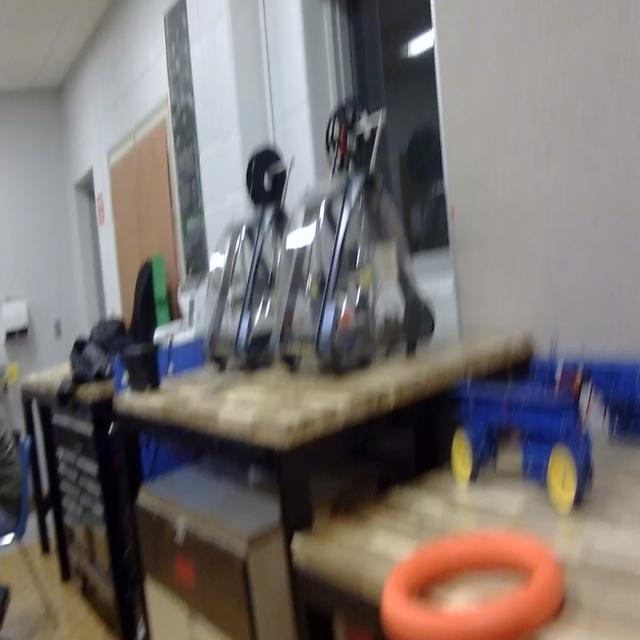note: (380, 526, 566, 640)
